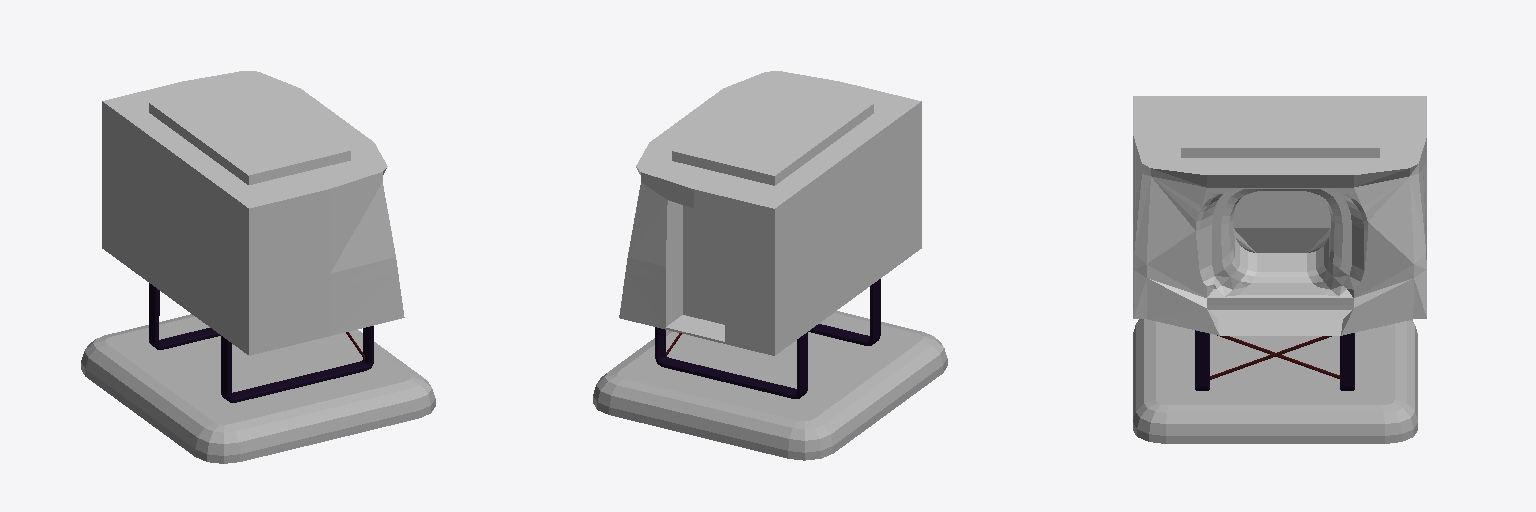
The model's file is airlock1.obj.
3 views of the same model, side by side, from view 1: azimuth 30°, elevation 25°; view 2: azimuth 150°, elevation 25°; view 3: azimuth 270°, elevation 25° (orthographic).
Parts seen in each view (by area): view 1: Cube, Cutter.005_Cutter.015, Circle.002; view 2: Cube, Cutter.005_Cutter.015, Circle.002; view 3: Cube, Cutter.005_Cutter.015, Circle.002, Plane.004.
Boxes of the visible parts, <box> form: Cube: <box>102,71,404,355</box>; Cutter.005_Cutter.015: <box>81,314,435,463</box>; Circle.002: <box>149,283,373,402</box>; Cube: <box>619,71,921,355</box>; Cutter.005_Cutter.015: <box>593,311,947,460</box>; Circle.002: <box>655,279,880,398</box>; Cube: <box>1133,96,1426,335</box>; Cutter.005_Cutter.015: <box>1133,319,1417,443</box>; Circle.002: <box>1195,330,1354,390</box>; Plane.004: <box>1210,335,1339,379</box>.
Size of the model in its own units: 2.91 by 3.08 by 3.15.